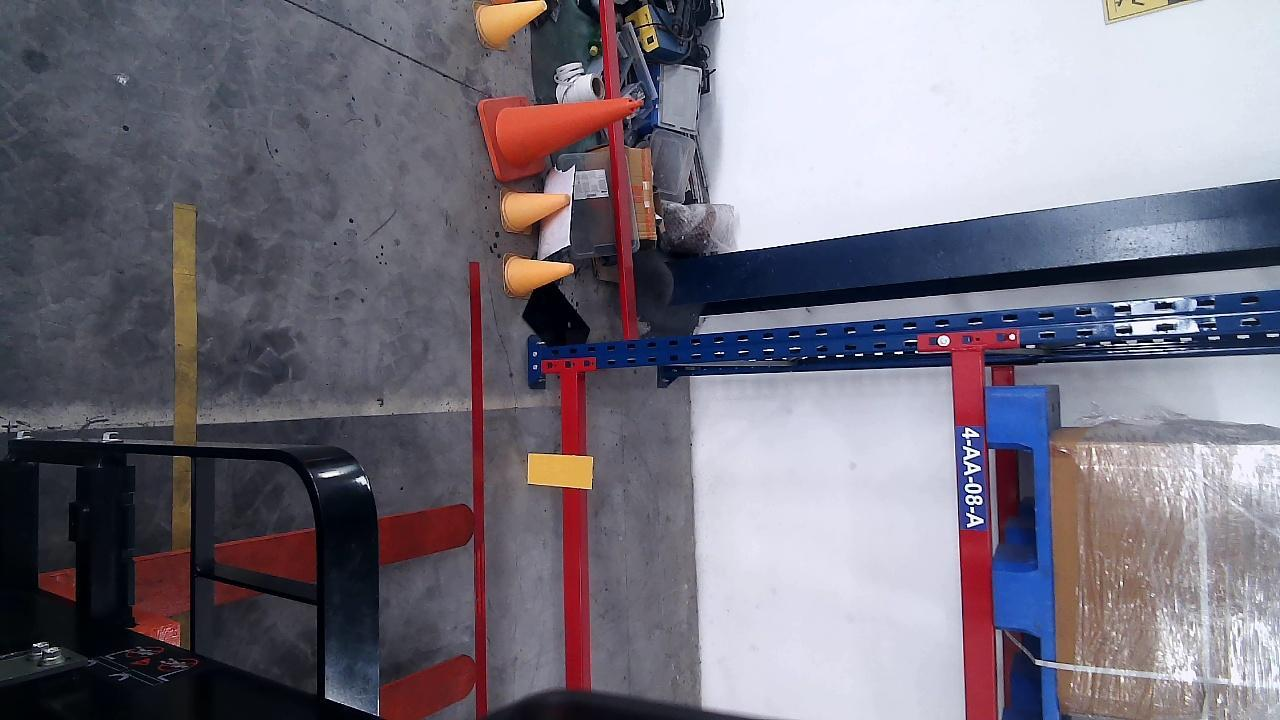h_rack: (946, 348, 998, 720), (558, 369, 592, 689)
orange_strip: (524, 456, 593, 488)
red_line: (469, 262, 491, 710)
small_pallet: (989, 391, 1062, 718)
yellow_line: (170, 201, 199, 546)
